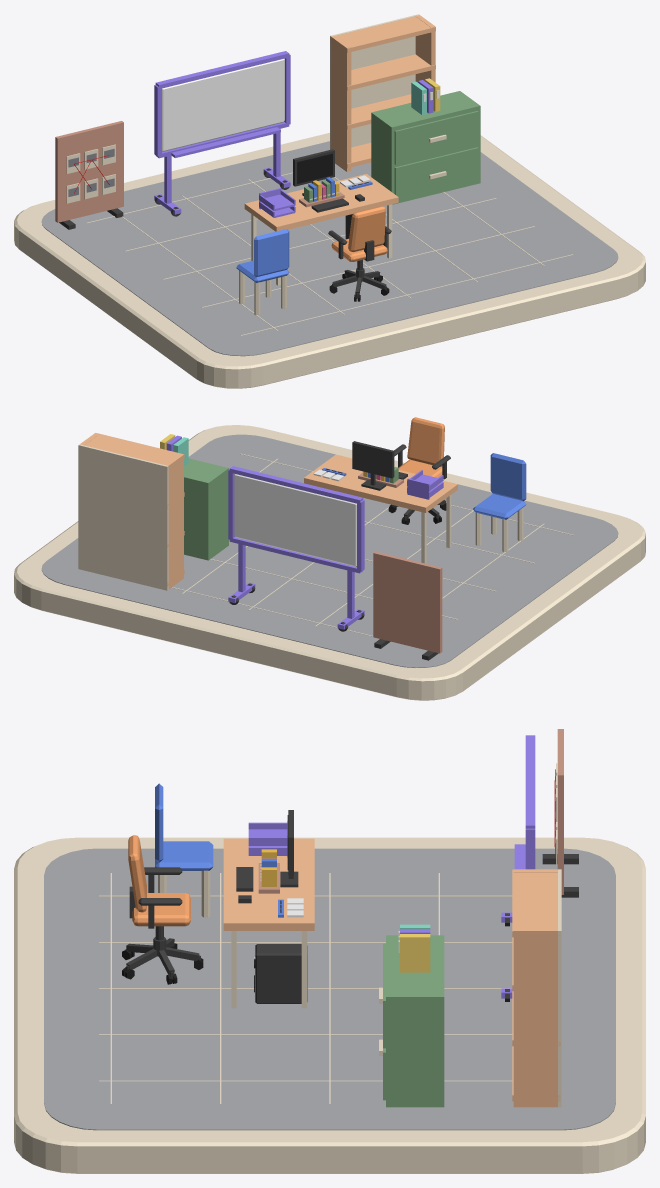
3 renders of one model, top to bottom at view 1: azimuth 30°, elevation 25°; view 2: azimuth 150°, elevation 25°; view 3: azimuth 270°, elevation 25°, orthographic. The views are drawn at different scales.
Parts seen in each view (by area): view 1: COM-02 Floor Surface, COM-01 Rounded Base Direct, Cabinet, Writing surface, Panel, Top, Back, COM-04_Chair_blender_direct, Side, Shelf.003, Shelf.002, Backrest (+7 smaller); view 2: COM-02 Floor Surface, COM-01 Rounded Base Direct, Back, Writing surface, Panel, Cabinet, Top, COM-04_Chair_blender_direct, Side, Backrest, Frame, Shelf.003 (+5 smaller); view 3: COM-02 Floor Surface, COM-01 Rounded Base Direct, Cabinet, Side.001, Top, COM-04_Chair_blender_direct, Shelf.003, Tower, Seat, File.002, Panel, Frame rail.001 (+5 smaller).
Boxes of the visible parts, left/top/right/bottom form: COM-02 Floor Surface: left=41, top=141, right=618, bottom=356; COM-01 Rounded Base Direct: left=14, top=132, right=645, bottom=388; Cabinet: left=371, top=91, right=480, bottom=204; Writing surface: left=162, top=58, right=284, bottom=151; Panel: left=55, top=121, right=123, bottom=222; Top: left=244, top=174, right=398, bottom=285; Back: left=330, top=14, right=418, bottom=149; COM-04_Chair_blender_direct: left=328, top=206, right=391, bottom=301; Side: left=330, top=35, right=351, bottom=171; Shelf.003: left=334, top=16, right=435, bottom=52; Shelf.002: left=334, top=54, right=435, bottom=90; Backrest: left=254, top=229, right=289, bottom=277; COM-02 Floor Surface: left=41, top=434, right=618, bottom=667; COM-01 Rounded Base Direct: left=14, top=425, right=645, bottom=700; Back: left=78, top=444, right=168, bottom=590; Writing surface: left=234, top=473, right=356, bottom=566; Panel: left=373, top=551, right=442, bottom=653; Cabinet: left=184, top=458, right=228, bottom=560; Top: left=304, top=454, right=457, bottom=563; COM-04_Chair_blender_direct: left=388, top=417, right=450, bottom=524; Side: left=164, top=453, right=183, bottom=589; Backrest: left=490, top=453, right=526, bottom=501; Frame: left=352, top=441, right=394, bottom=490; Shelf.003: left=84, top=433, right=184, bottom=469; COM-02 Floor Surface: left=44, top=848, right=615, bottom=1130; COM-01 Rounded Base Direct: left=14, top=837, right=645, bottom=1173; Cabinet: left=379, top=935, right=444, bottom=1107; Side.001: left=513, top=928, right=559, bottom=1107; Top: left=223, top=838, right=314, bottom=1008; COM-04_Chair_blender_direct: left=122, top=835, right=203, bottom=984; Shelf.003: left=512, top=869, right=560, bottom=937; Tower: left=255, top=944, right=307, bottom=1003; Seat: left=155, top=841, right=213, bottom=870; File.002: left=400, top=934, right=430, bottom=972; Panel: left=557, top=729, right=563, bottom=894; Frame rail.001: left=525, top=735, right=535, bottom=828.
Size of the model in its own units: 6 by 1.96 by 5.2.
1 material, 1 textured.
